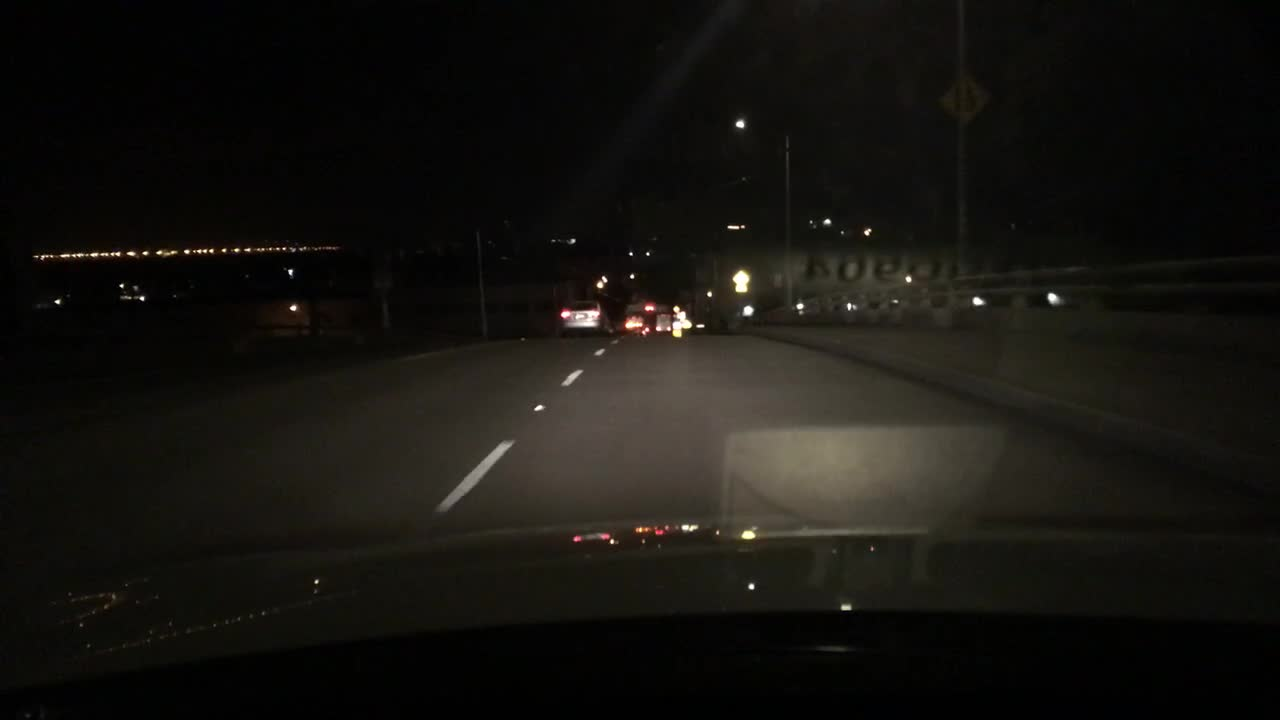car: (556, 295, 612, 341), (671, 314, 688, 339), (620, 317, 641, 337), (637, 324, 654, 336)
person: (940, 75, 991, 124)
traffic light: (641, 300, 656, 314)
traffic sign: (730, 267, 750, 283), (732, 282, 749, 292)
truck: (654, 312, 671, 334)
